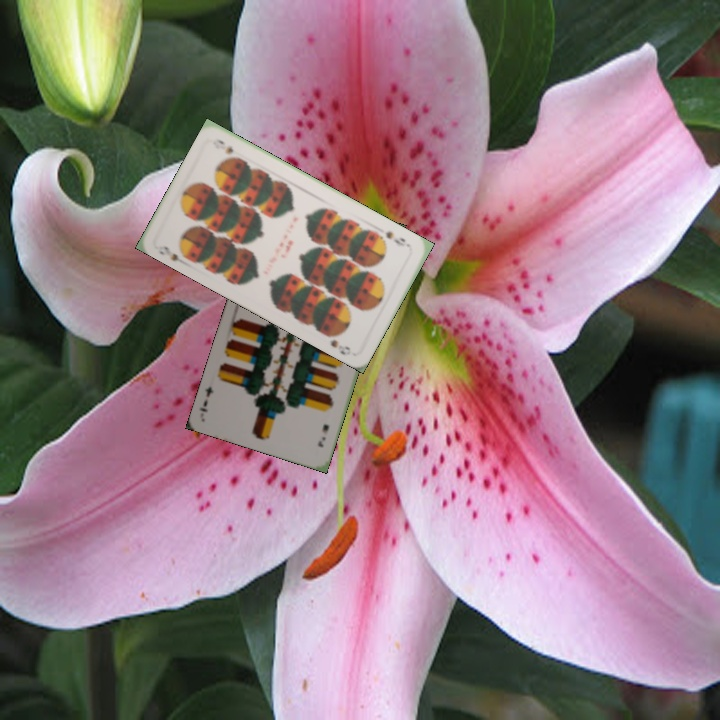E7: (314, 420, 331, 450)
S9: (154, 241, 190, 268), (380, 227, 414, 250)
